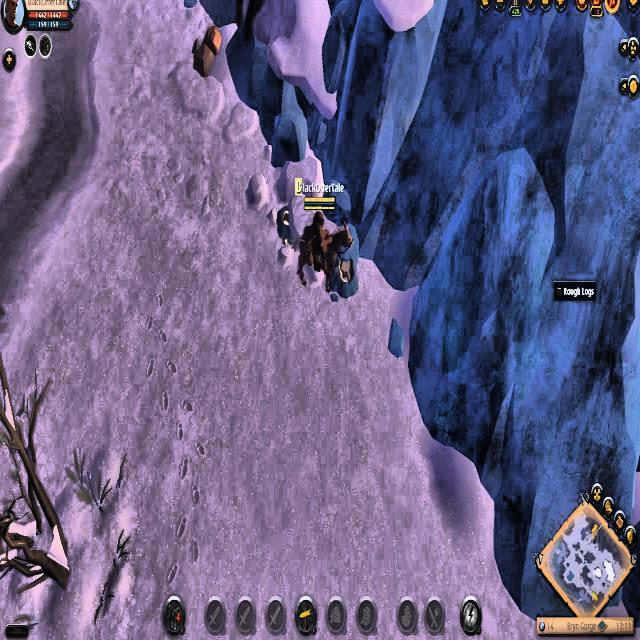limestone: (191, 19, 224, 74)
